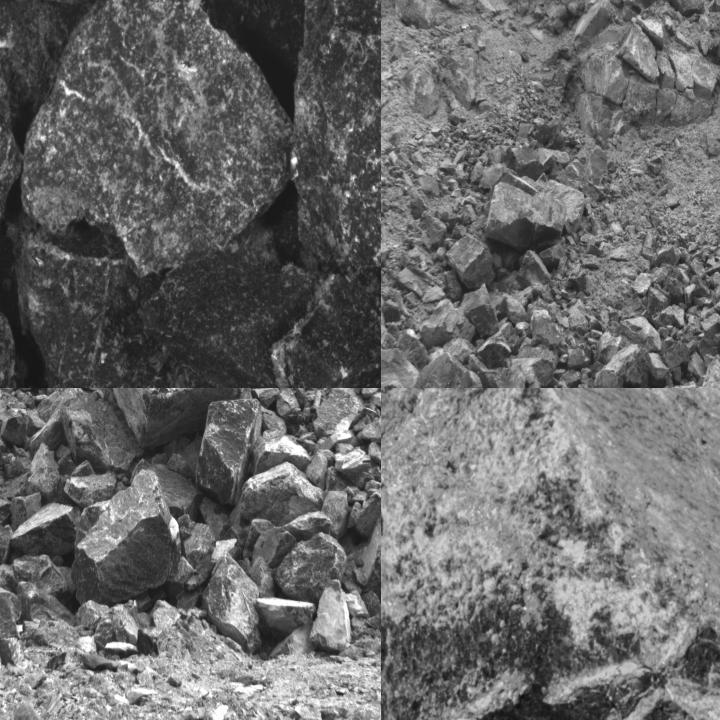stone: (18, 0, 293, 274), (12, 215, 317, 387), (294, 0, 380, 273), (71, 470, 181, 606), (269, 273, 380, 387), (88, 388, 265, 447), (60, 388, 145, 473), (196, 398, 262, 506), (228, 463, 326, 528), (201, 549, 262, 650), (484, 182, 566, 252), (503, 169, 586, 236), (275, 532, 346, 600), (130, 459, 200, 520), (176, 360, 334, 387), (11, 504, 84, 554), (662, 43, 719, 99), (309, 580, 351, 652), (446, 236, 496, 293), (13, 554, 74, 598), (421, 348, 489, 387), (312, 388, 365, 438), (592, 344, 653, 387), (179, 518, 215, 589), (616, 23, 659, 82), (381, 321, 429, 371), (589, 330, 636, 379), (459, 284, 500, 340), (477, 321, 521, 369), (610, 315, 663, 353), (526, 294, 562, 347), (63, 473, 116, 509), (470, 357, 528, 387), (381, 347, 423, 387), (505, 144, 548, 182), (517, 250, 551, 293), (642, 286, 670, 329), (244, 519, 274, 559), (631, 15, 669, 46), (538, 147, 570, 180), (558, 158, 591, 189), (661, 336, 691, 369), (662, 268, 687, 305), (567, 342, 594, 371), (667, 0, 707, 16), (700, 312, 719, 339), (688, 351, 704, 381), (560, 369, 582, 387), (699, 337, 719, 356), (516, 322, 530, 342), (711, 293, 719, 316)
